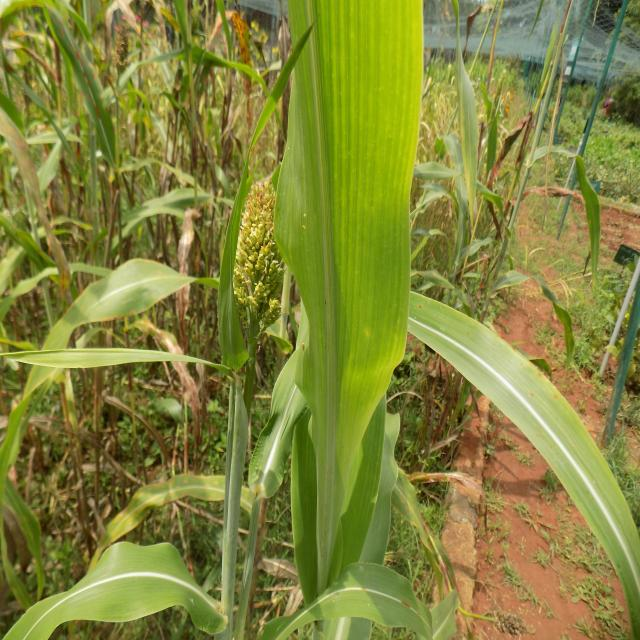millet_healthy: (277, 250, 640, 640), (280, 0, 420, 629)
